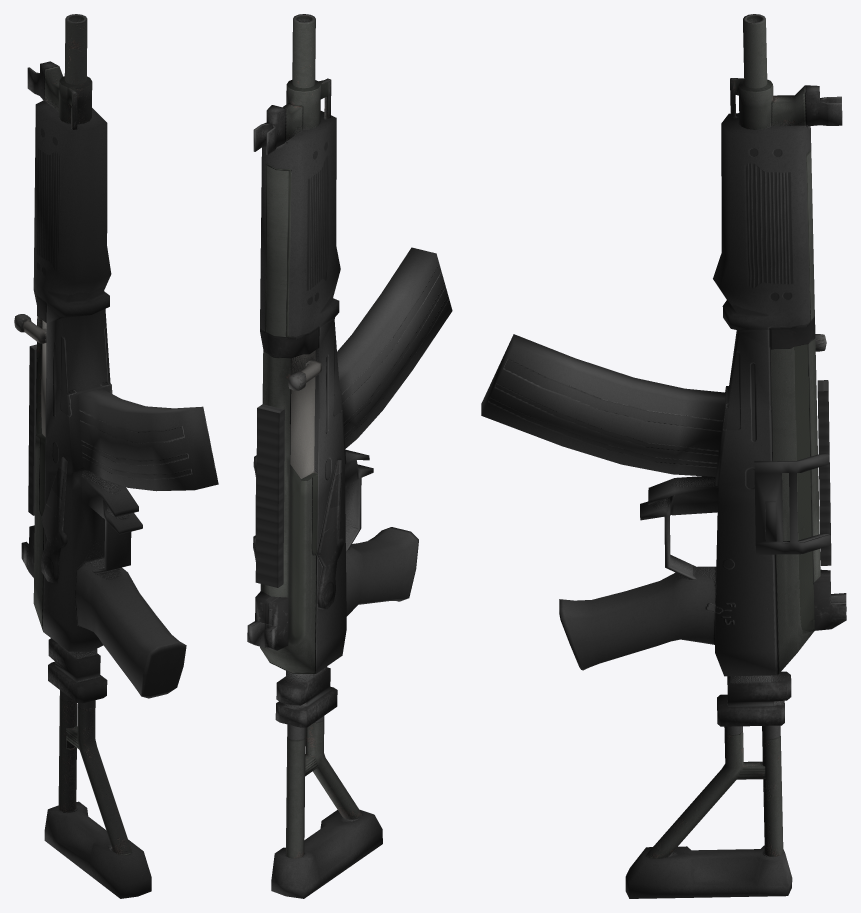
Rendered from TLOG_Specter.fbx.
3 renders of one model, left to right at view 1: azimuth 30°, elevation 25°; view 2: azimuth 150°, elevation 25°; view 3: azimuth 270°, elevation 25°, orthographic. The views are drawn at different scales.
Parts seen in each view (by area): view 1: Specter; view 2: Specter; view 3: Specter.
Part boxes in pixels (bbox=[...]): Specter: bbox=[14, 14, 218, 898]; Specter: bbox=[247, 14, 452, 898]; Specter: bbox=[481, 14, 846, 898].
Bounding box in the file's own units: 0.0335 × 0.4601 × 0.1745.
